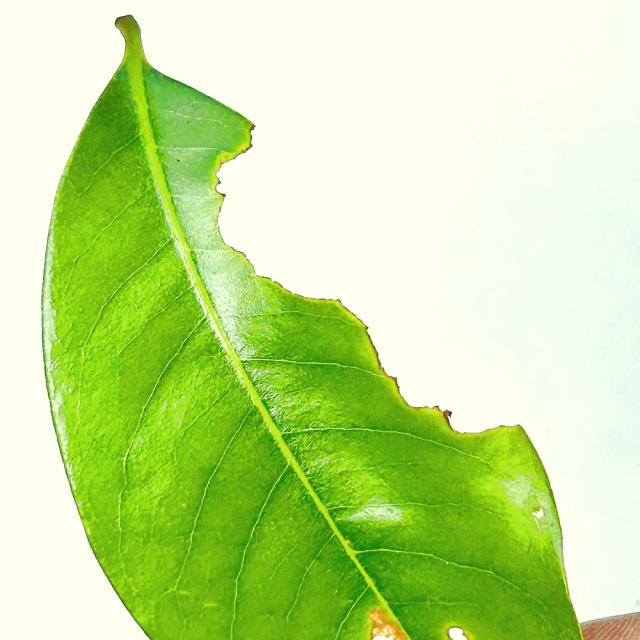Deficiency Leaf: (221, 105, 521, 411)
Lychee: (42, 16, 580, 639)
